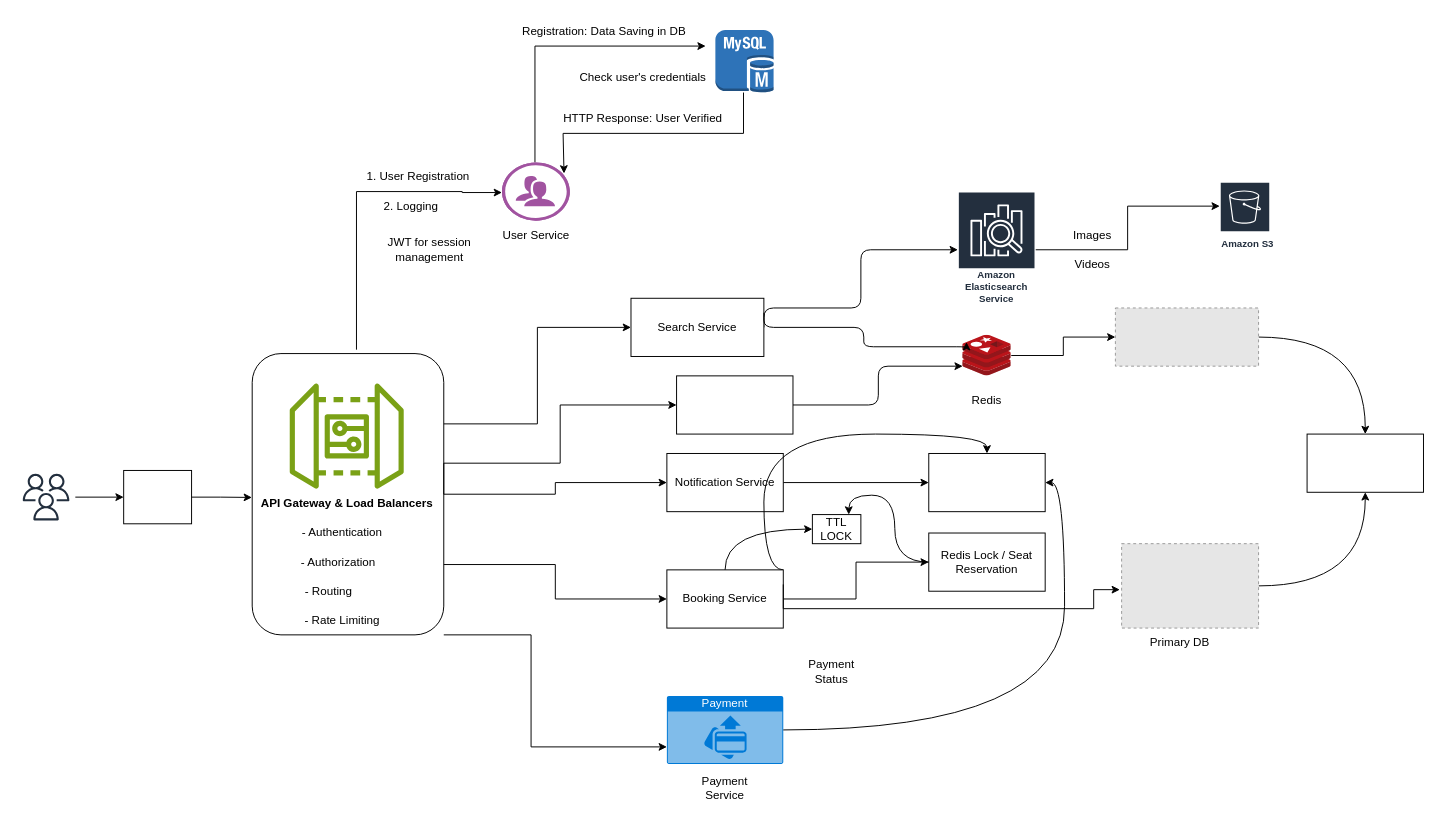
The diagram is 1440 pixels wide and 819 high, and some of its shapes have lost their labels. Grey dashed boxes stand in for pictures. The shapes that lost their labels are listed below. From the top down, each one's box as (x1, y1, x2, y2) in pixels, then its label:
(676, 375, 793, 434): Event Service
(928, 453, 1045, 512): KAFKA/ Messsage Queue
(1306, 433, 1423, 492): Read Replicas
(123, 469, 192, 524): CDN
